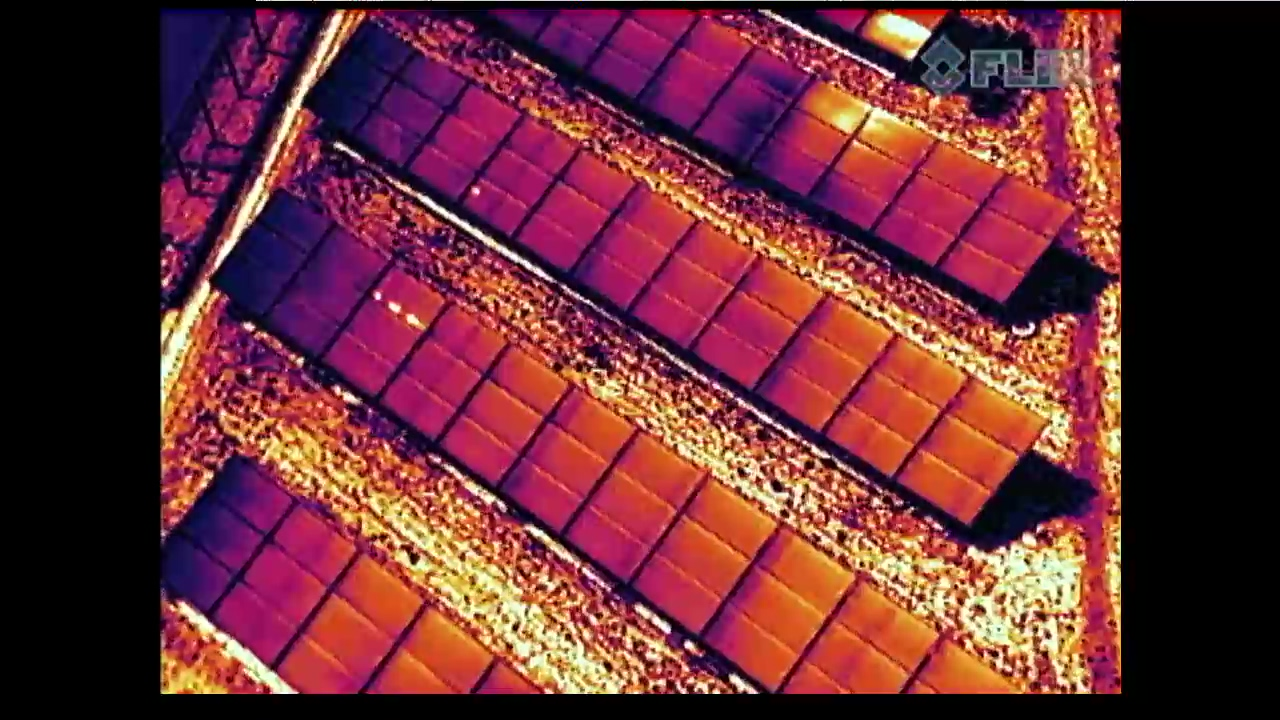hotspot: (323, 268, 445, 388), (459, 112, 579, 231)
